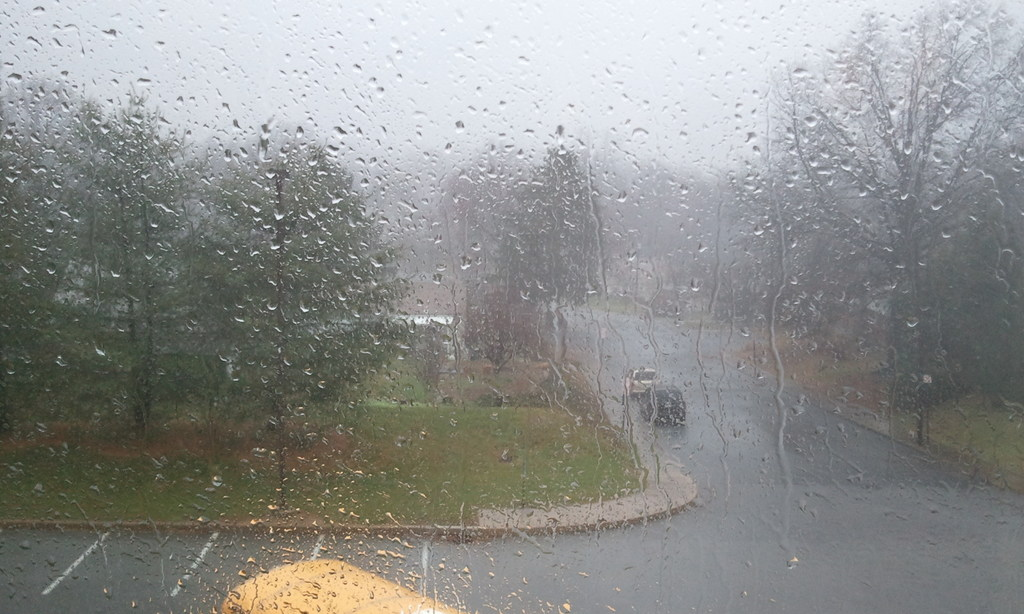Tree: (0, 0, 1023, 513)
